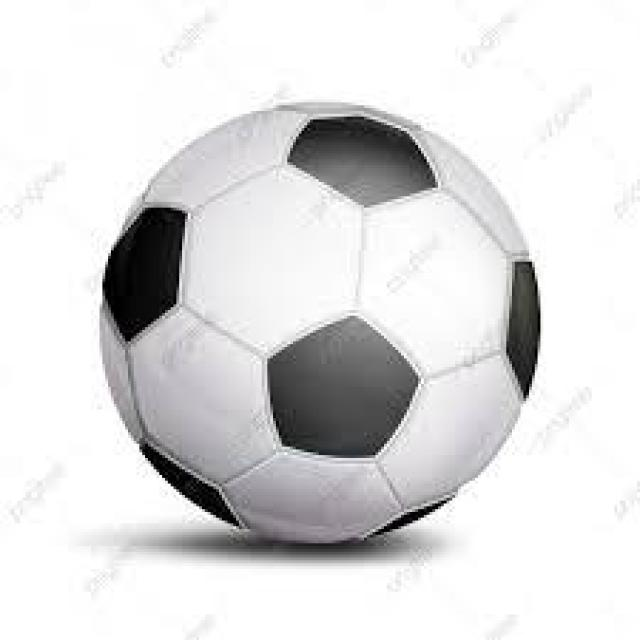Soccer Ball: (106, 100, 544, 549)
